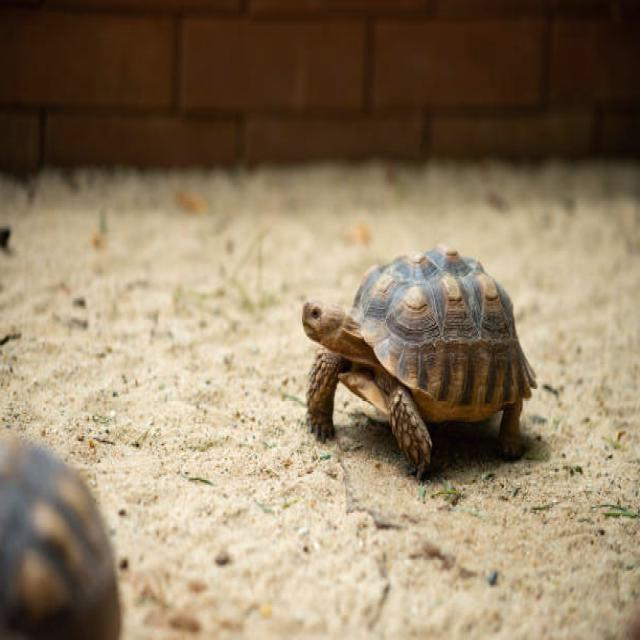tortoise: (288, 239, 544, 485)
